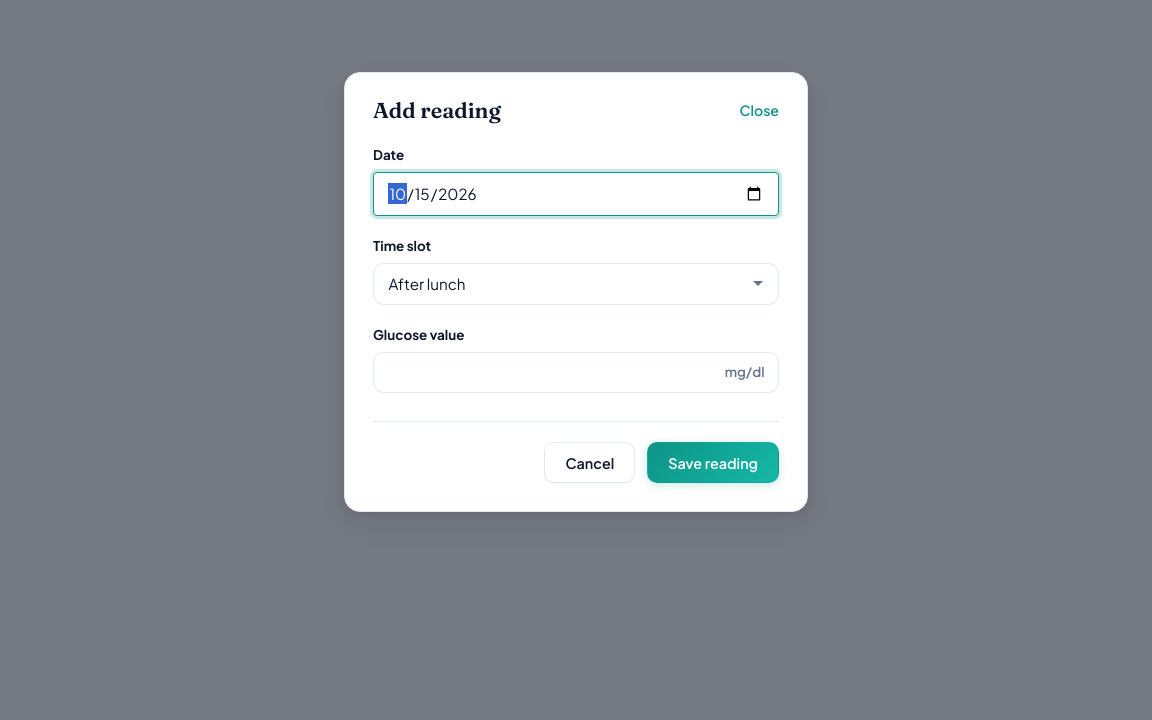
Test: ReadingForm validation › rejects 39 as out of range or not a whole number
Step 1. Type "39" into the number field labelled "Glucose value" → [576, 372], box [373, 352, 779, 393]
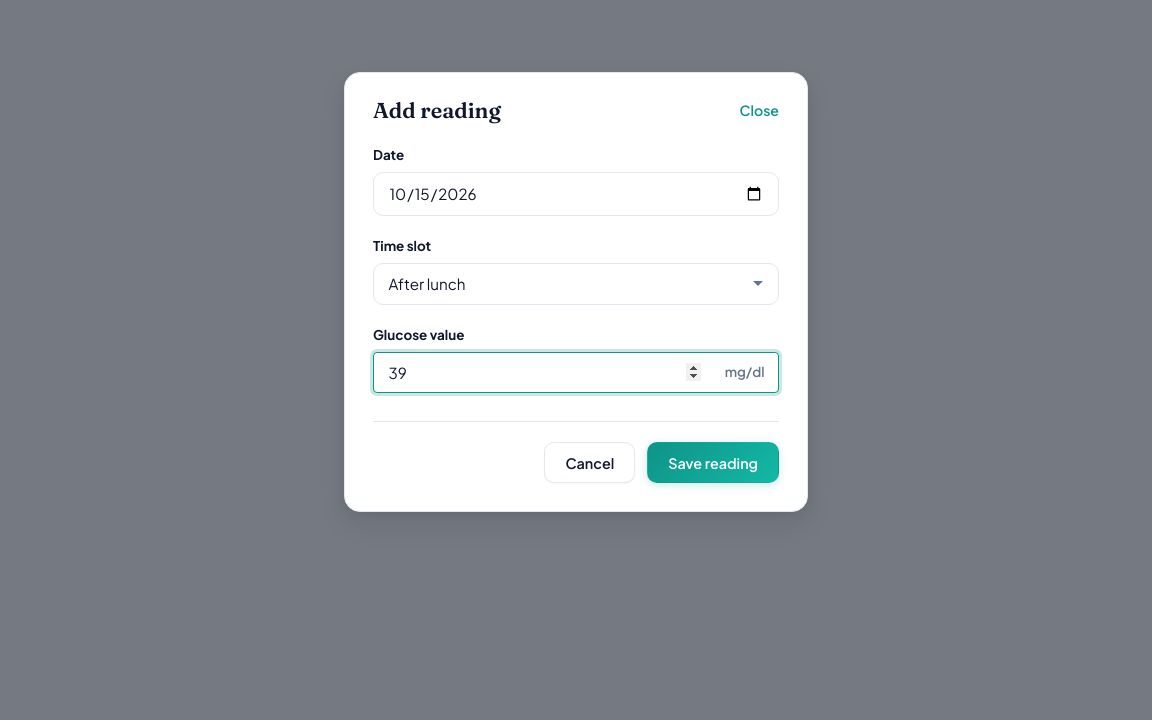
Step 2. Click the button "Save reading" → [713, 463], box [647, 442, 779, 483]
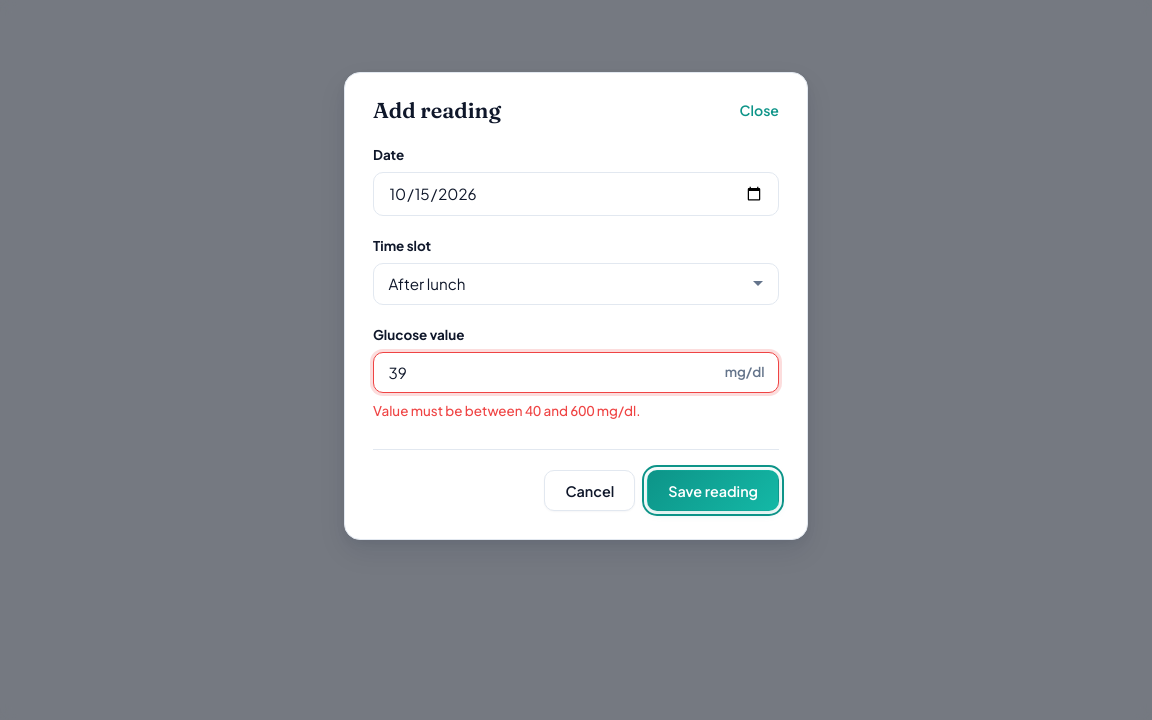
expect the text "Value must be between 40 and 600 mg/dl." is shown: met, box [373, 402, 640, 419]
